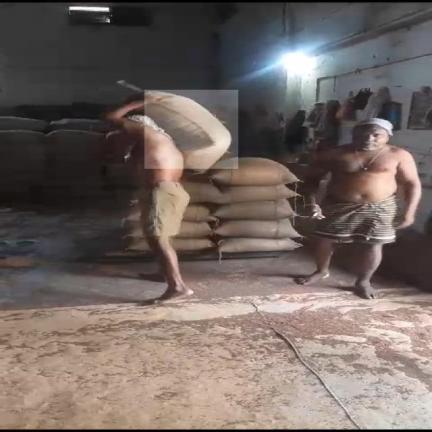Zone-Counting: (107, 91, 231, 302)
